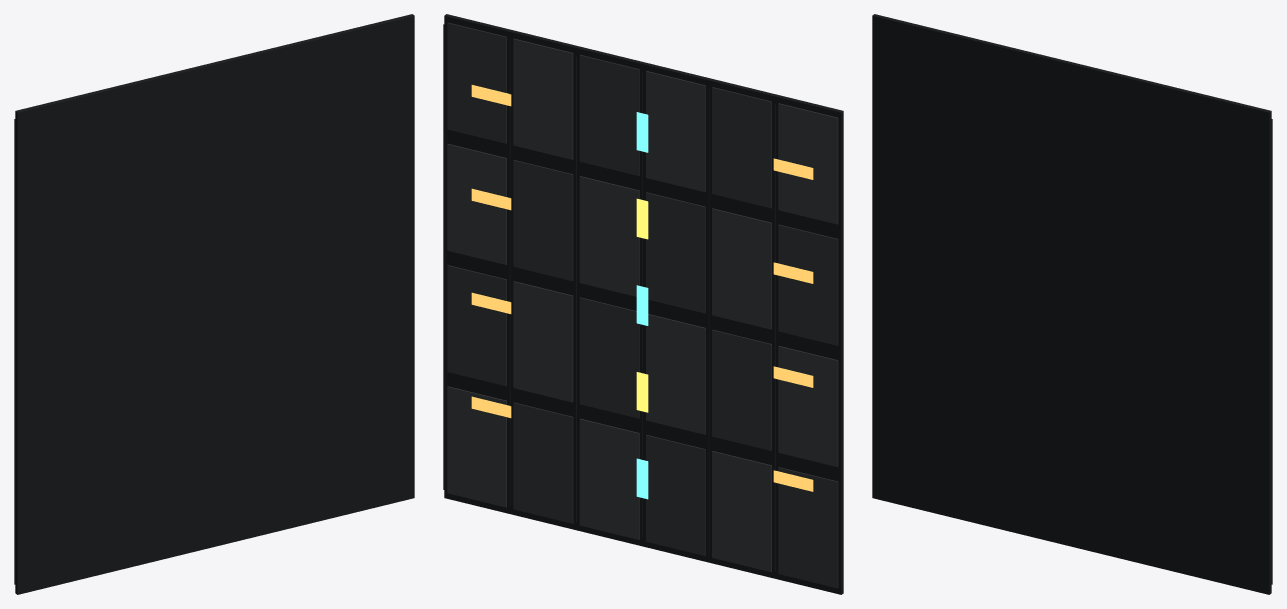
Rendered from deck_ribbon.glb.
3 views of the same model, side by side, from view 1: azimuth 30°, elevation 25°; view 2: azimuth 150°, elevation 25°; view 3: azimuth 330°, elevation 25° (orthographic).
Visible parts, largest first — view 1: FlightKit_DeckRibbon_W41; view 2: FlightKit_DeckRibbon_W41; view 3: FlightKit_DeckRibbon_W41.
Boxes of the visible parts, x1,y1,x2,y2 form: FlightKit_DeckRibbon_W41: [14, 14, 414, 594]; FlightKit_DeckRibbon_W41: [443, 14, 843, 594]; FlightKit_DeckRibbon_W41: [872, 14, 1272, 594].
Size of the model in its own units: 12.03 by 13.93 by 0.155.
